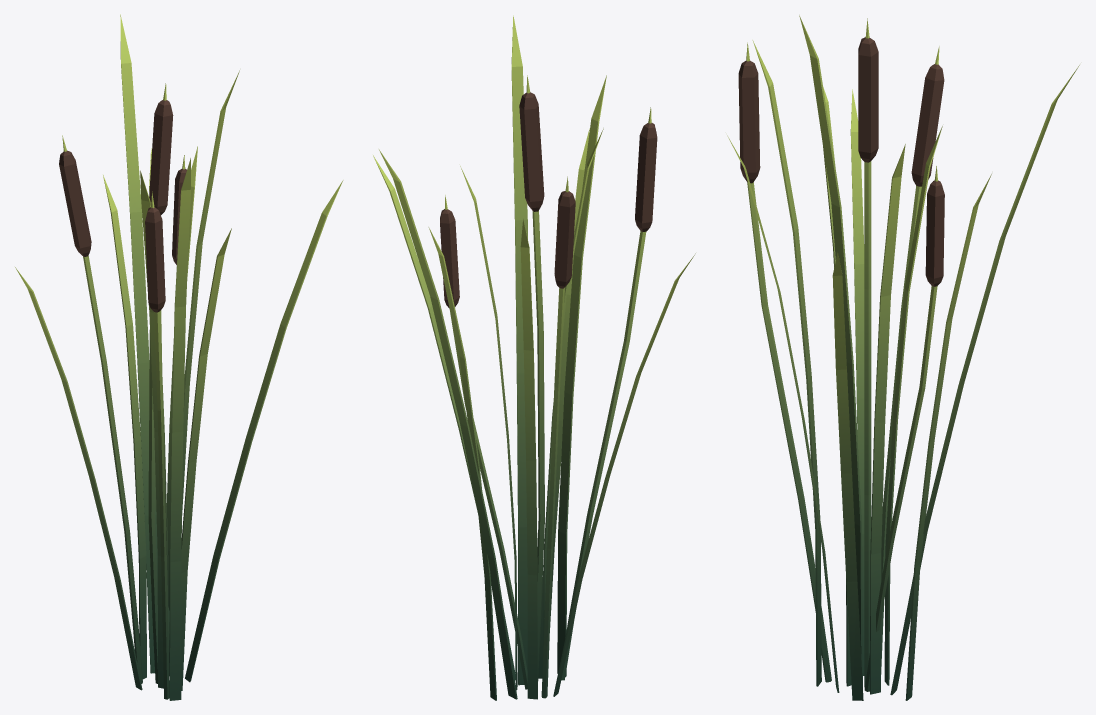
Rendered from Schilfrohr_groß.fbx.
The picture shows the model from 3 angles, left to right: view 1: azimuth 30°, elevation 25°; view 2: azimuth 150°, elevation 25°; view 3: azimuth 270°, elevation 25°; orthographic projection. The views are drawn at different scales.
Visible parts, largest first — view 1: Schilfrohr_groß; view 2: Schilfrohr_groß; view 3: Schilfrohr_groß.
Boxes of the visible parts, bbox=[...] form: Schilfrohr_groß: bbox=[15, 14, 343, 700]; Schilfrohr_groß: bbox=[373, 15, 695, 700]; Schilfrohr_groß: bbox=[727, 15, 1079, 700].
Bounding box in the file's own units: 67.4 × 125 × 57.43.
